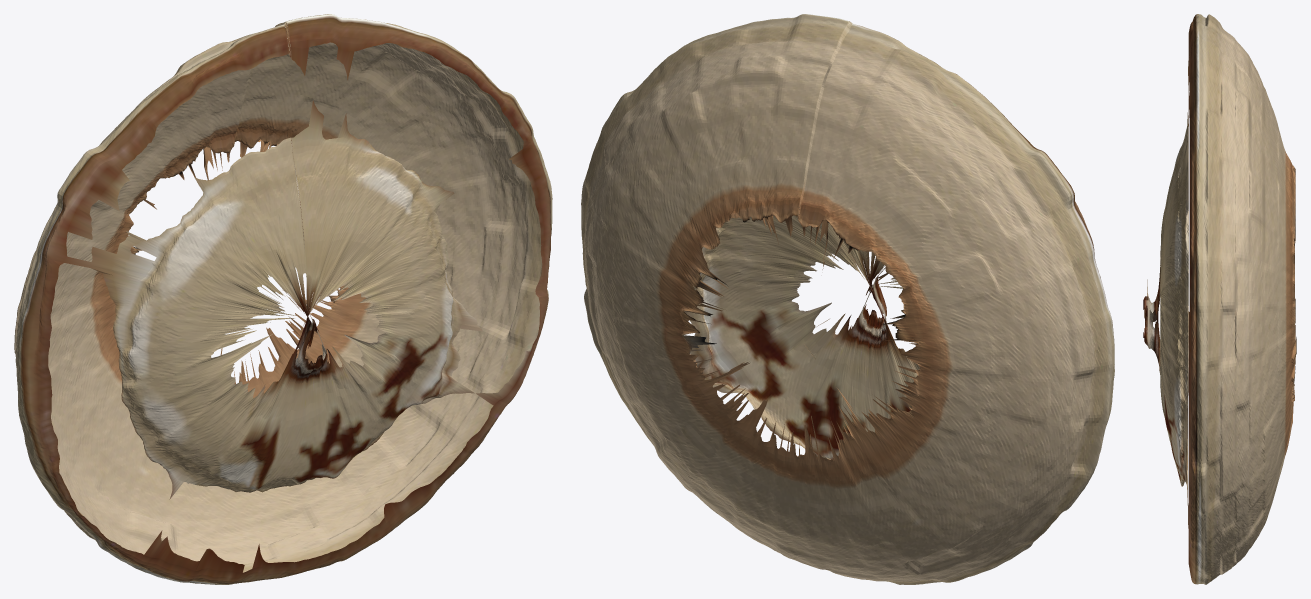
The picture shows the model from 3 angles, left to right: view 1: azimuth 30°, elevation 25°; view 2: azimuth 150°, elevation 25°; view 3: azimuth 270°, elevation 25°; orthographic projection. The views are drawn at different scales.
Visible parts, largest first — view 1: geometry_0; view 2: geometry_0; view 3: geometry_0.
Boxes of the visible parts, x1,y1,x2,y2 form: geometry_0: (14, 14, 552, 584); geometry_0: (581, 14, 1114, 584); geometry_0: (1143, 14, 1296, 584).
Bounding box in the file's own units: 1.91 × 1.89 × 0.5049.
Materials: 1 (1 with a texture image).
